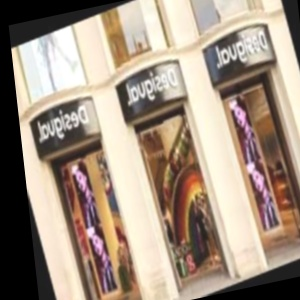desigual: (104, 0, 300, 80), (122, 14, 233, 104), (79, 50, 101, 135)
